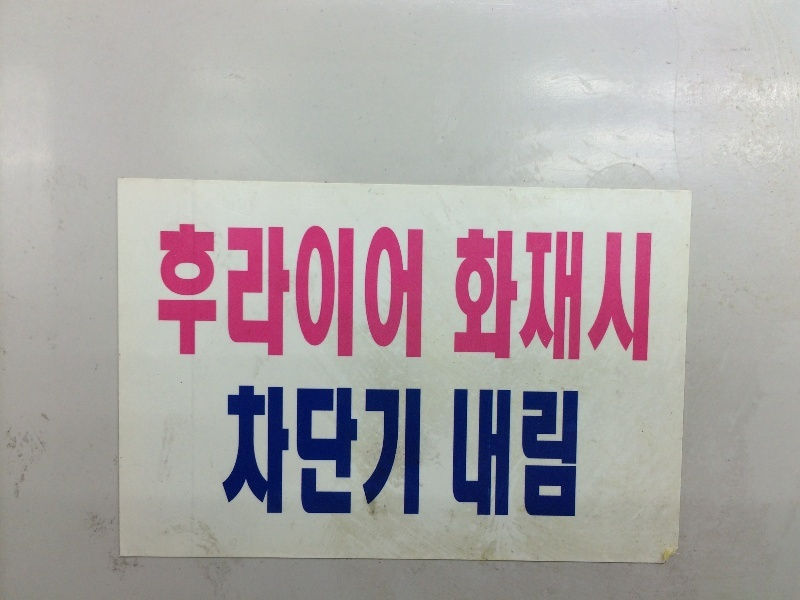text: (641, 225, 657, 369), (161, 221, 176, 365), (177, 221, 192, 365), (193, 221, 208, 365), (209, 221, 224, 365), (225, 221, 240, 365), (241, 221, 256, 365), (257, 221, 272, 365), (273, 221, 288, 365), (289, 221, 304, 365), (305, 221, 320, 365), (321, 221, 336, 365), (337, 221, 352, 365), (353, 221, 368, 365), (369, 221, 384, 365), (385, 221, 400, 365), (401, 221, 416, 365), (465, 225, 480, 369), (481, 225, 496, 369), (497, 225, 512, 369), (513, 225, 528, 369), (529, 225, 544, 369), (545, 225, 560, 369), (561, 225, 576, 369), (577, 225, 592, 369), (593, 225, 608, 369), (609, 225, 624, 369), (625, 225, 640, 369), (225, 386, 240, 521), (241, 386, 256, 521), (257, 386, 272, 521), (273, 386, 288, 521), (289, 386, 304, 521), (305, 386, 320, 521), (321, 386, 336, 521), (337, 386, 352, 521), (353, 386, 368, 521), (369, 386, 384, 521), (385, 386, 400, 521), (401, 386, 416, 521), (417, 386, 432, 521), (433, 386, 448, 521), (449, 386, 464, 521), (465, 386, 480, 521), (481, 386, 496, 521), (497, 386, 512, 521), (513, 386, 528, 521), (529, 386, 544, 521), (545, 386, 560, 521), (561, 386, 576, 521), (453, 225, 464, 369), (417, 221, 427, 365), (218, 386, 224, 521), (577, 386, 583, 521), (156, 221, 160, 365)
